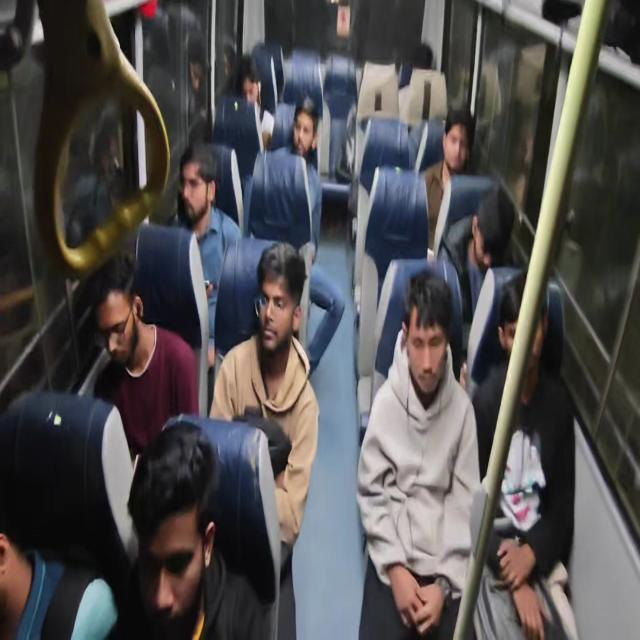person: (112, 421, 224, 625), (403, 264, 458, 406), (86, 245, 144, 378), (252, 237, 302, 359), (495, 290, 550, 388), (0, 444, 29, 620), (179, 137, 220, 229), (468, 186, 506, 266), (292, 85, 326, 162), (442, 101, 474, 174), (234, 56, 263, 104), (407, 40, 432, 77)
